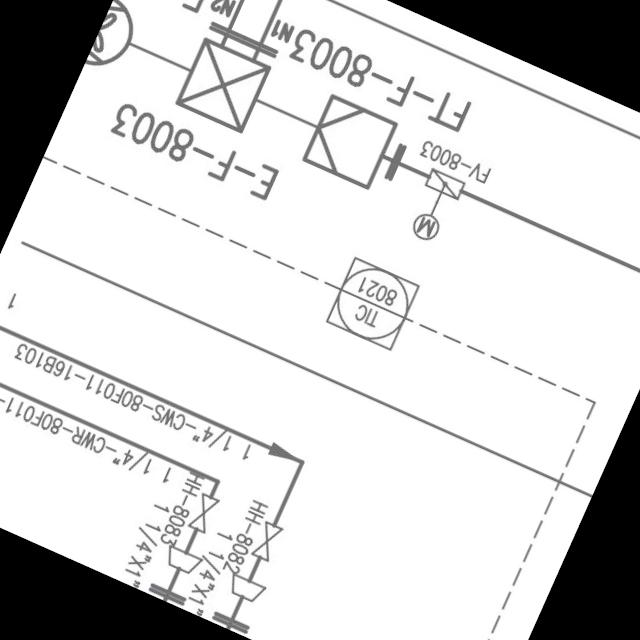CV2: (420, 164, 468, 204)
GV: (245, 516, 288, 568), (183, 488, 223, 539)
SP: (222, 567, 270, 609), (160, 540, 204, 578)
